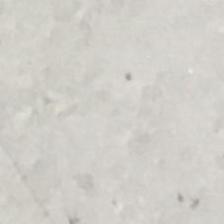Non_Crack: (24, 34, 183, 202)
